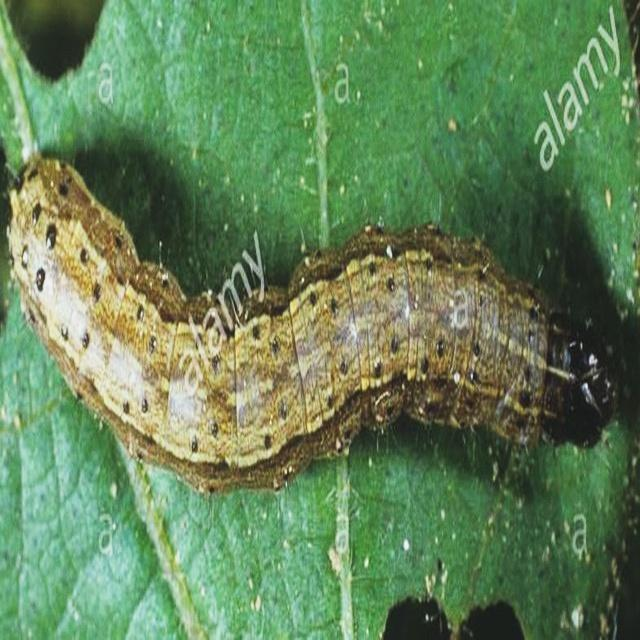gusano_cogollero: (0, 149, 622, 498)
